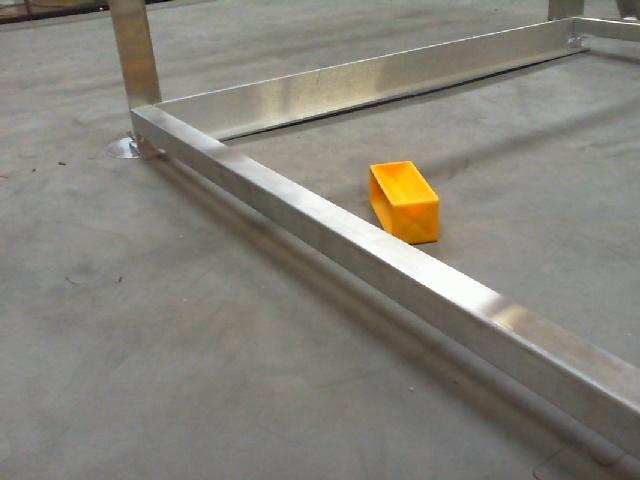YellowSample: (366, 157, 444, 250)
